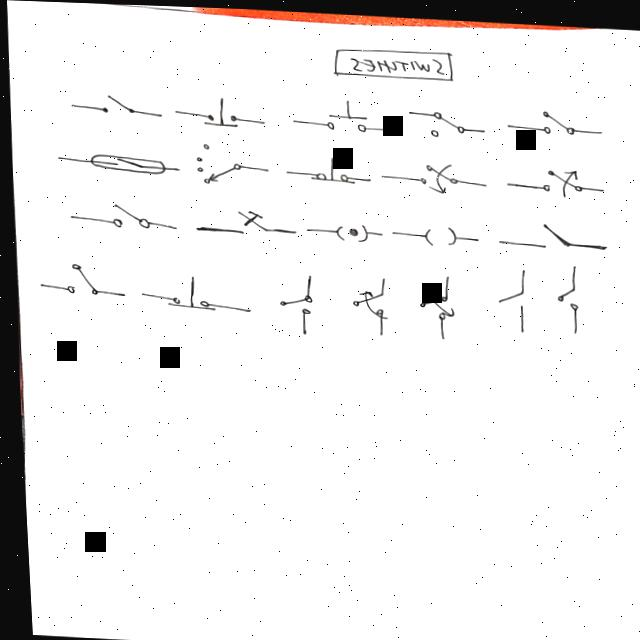switch: (83, 145, 169, 177), (527, 157, 595, 197), (186, 140, 245, 186), (408, 153, 467, 193), (313, 98, 375, 136), (340, 281, 400, 319), (97, 199, 160, 233), (525, 215, 581, 252), (54, 255, 99, 300), (156, 286, 223, 316), (272, 280, 320, 320), (412, 283, 462, 321), (419, 101, 473, 136), (409, 216, 464, 248), (215, 206, 269, 238), (298, 160, 359, 187), (531, 101, 577, 135), (546, 275, 588, 311), (490, 279, 534, 312), (194, 102, 247, 129), (322, 216, 372, 244), (91, 90, 141, 117)
